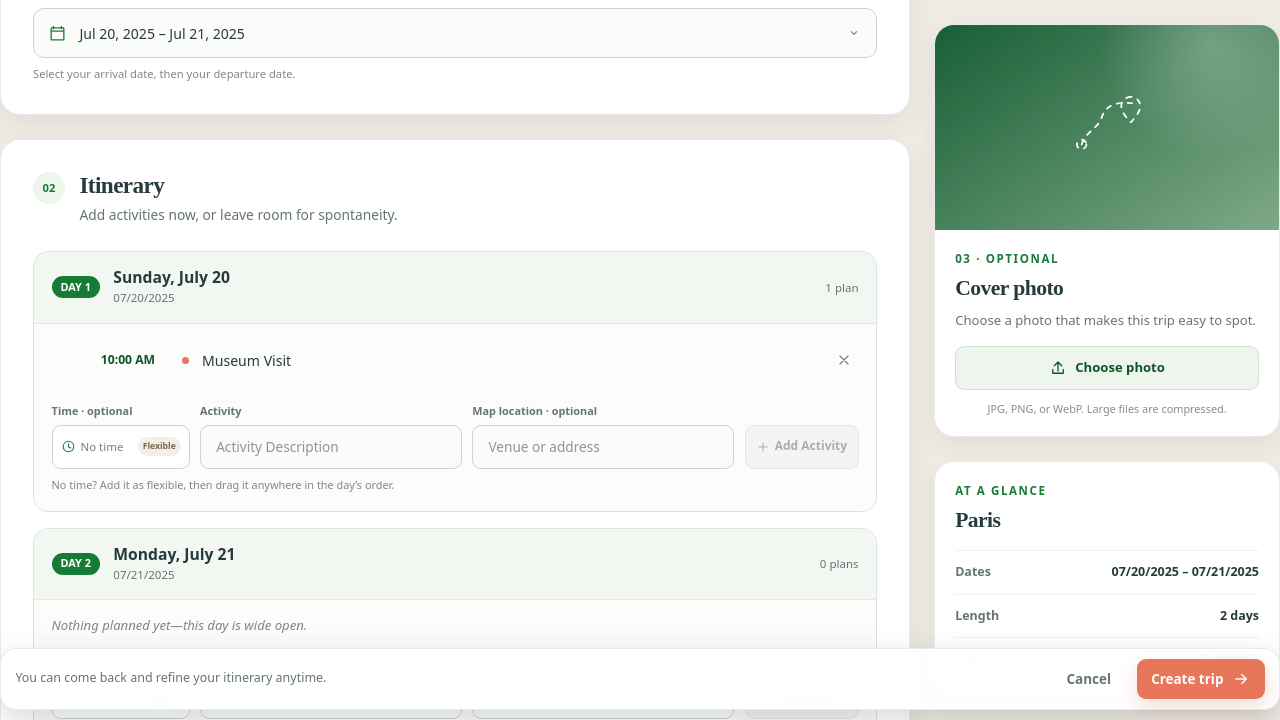
Scenario: TripForm › removes an activity from the itinerary
(page scrolled)
Click the button named "remove" at [844, 360], box [828, 345, 858, 375]
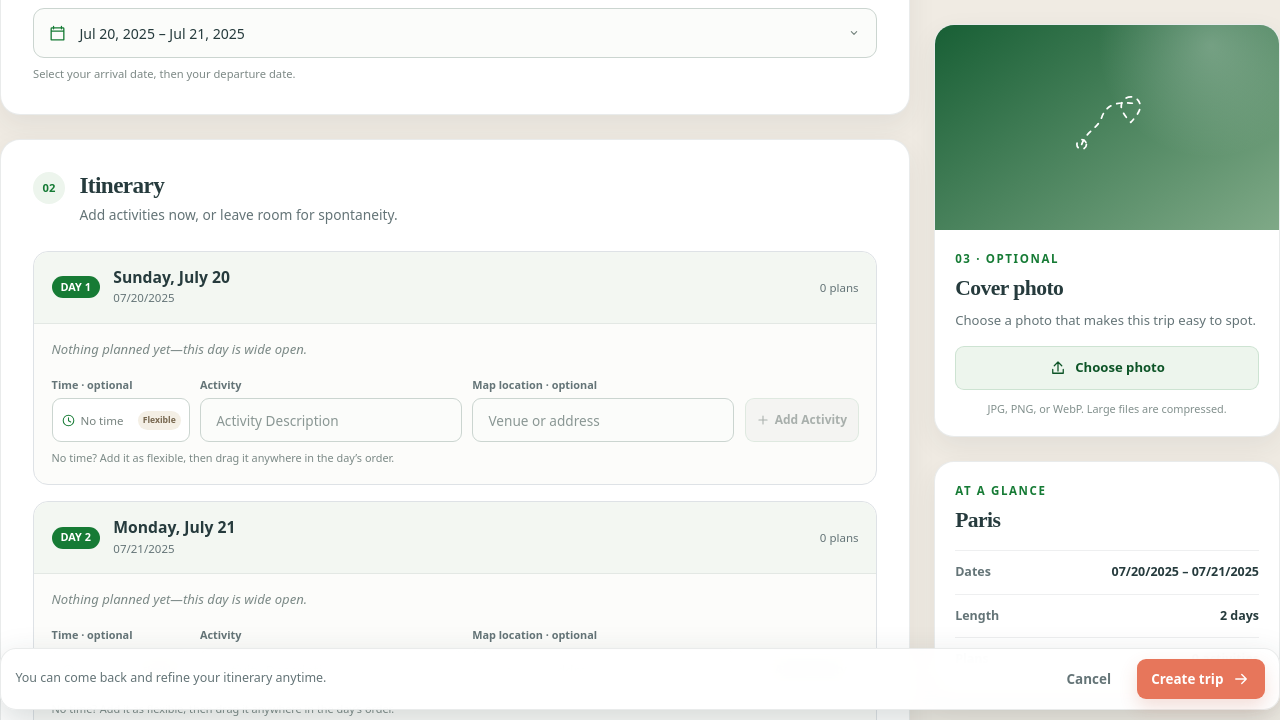
Check: the button "Museum Visit" is gone
